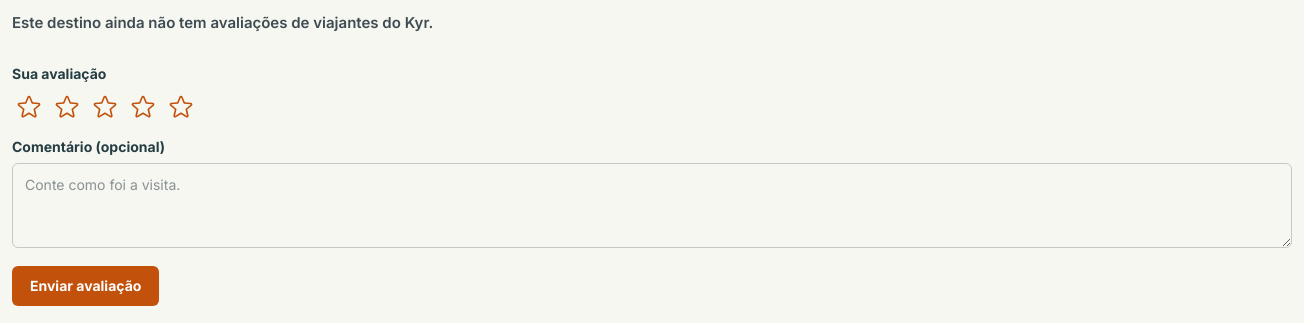
Scenario: AvaliacoesDoDestino › com a sessão vencida, esquece o login e esconde o formulário
The image size is (1304, 323).
Click the radio button named "3 estrelas". click: (105, 106)
box: x1=88 y1=90 x2=122 y2=124
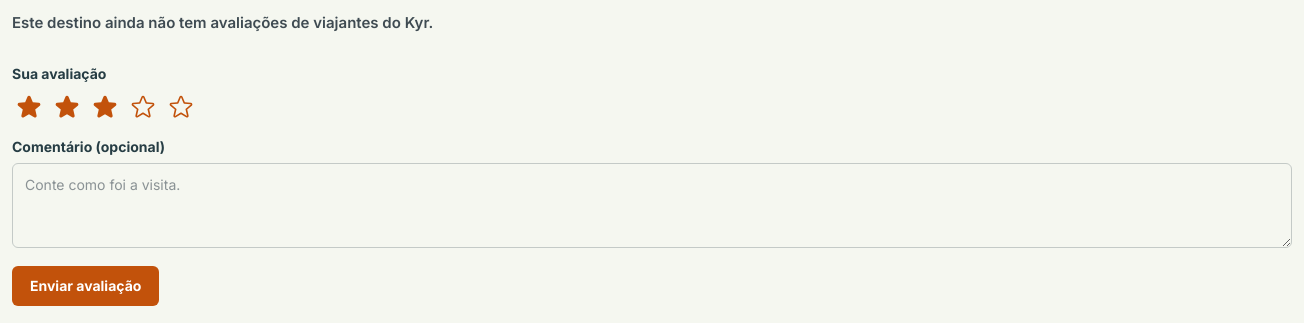
Click the button "Enviar avaliação". click: (86, 286)
box: x1=12 y1=266 x2=159 y2=306
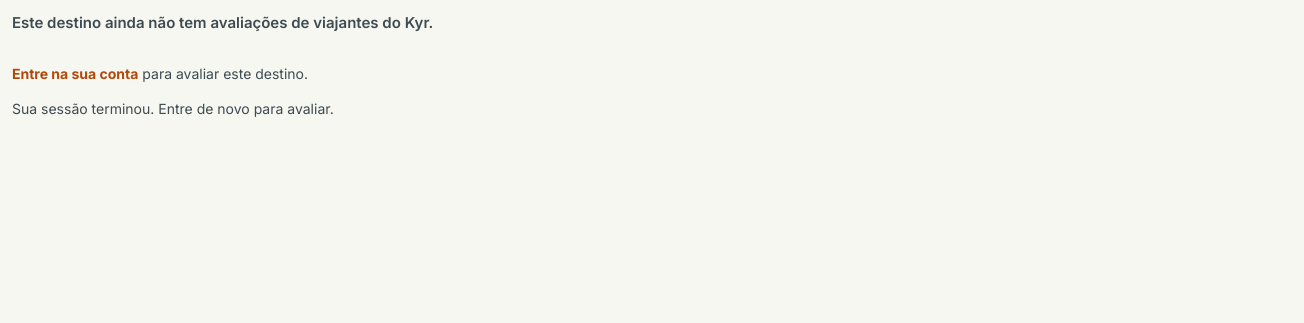
Now the text "Sua sessão terminou. Entre de novo para avaliar." is shown, box x1=12 y1=100 x2=334 y2=116
